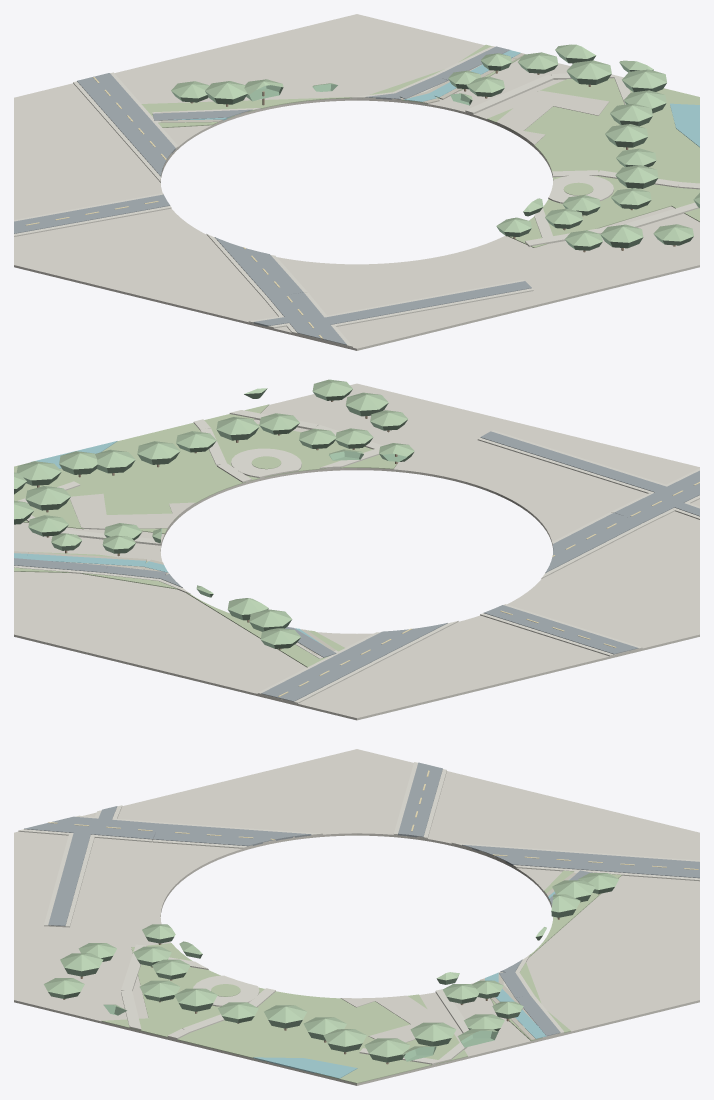
The model's file is surround-P09.glb.
The picture shows the model from 3 angles, top to bottom: view 1: azimuth 30°, elevation 25°; view 2: azimuth 150°, elevation 25°; view 3: azimuth 270°, elevation 25°; orthographic projection.
Visible parts, largest first — view 1: P09_neutral, P09_grass, P09_road, P09_tree2, P09_pave, P09_tree, P09_water, P09_bank; view 2: P09_neutral, P09_grass, P09_road, P09_tree2, P09_pave, P09_tree, P09_water, P09_bank; view 3: P09_neutral, P09_grass, P09_road, P09_tree2, P09_pave, P09_tree, P09_water.
Boxes of the visible parts, x1,y1,x2,y2 form: P09_neutral: (14,14,699,350); P09_grass: (141,44,699,247); P09_road: (14,46,531,344); P09_tree2: (171,44,699,246); P09_pave: (14,46,699,347); P09_tree: (171,50,699,250); P09_water: (168,50,699,147); P09_bank: (160,53,524,122); P09_neutral: (14,383,699,720); P09_grass: (14,404,398,667); P09_road: (14,431,699,701); P09_tree2: (14,379,414,644); P09_pave: (14,410,699,703); P09_tree: (14,388,413,648); P09_water: (14,441,323,645); P09_bank: (14,551,335,655); P09_neutral: (14,749,699,1085); P09_grass: (102,870,621,1083); P09_road: (24,762,699,1035); P09_tree2: (44,873,618,1057); P09_pave: (18,762,699,1065); P09_tree: (48,887,614,1062); P09_water: (253,878,571,1078).
Size of the model in its own units: 16.17 by 0.597 by 14.
